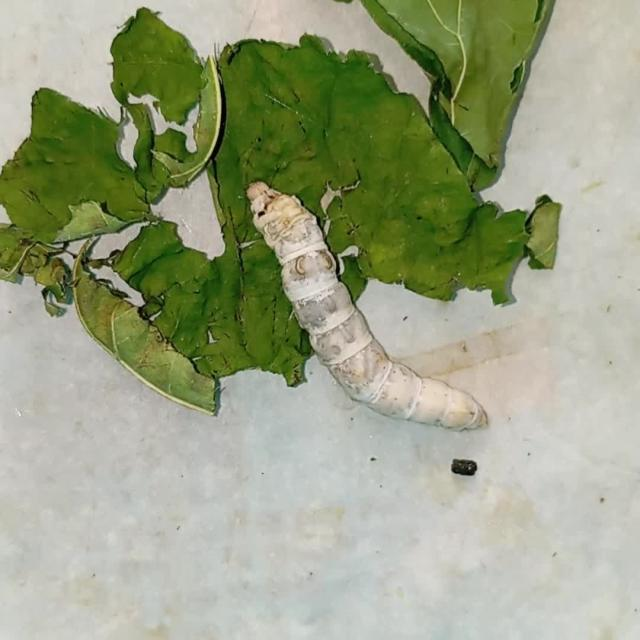Grasserie: (236, 166, 513, 443)
